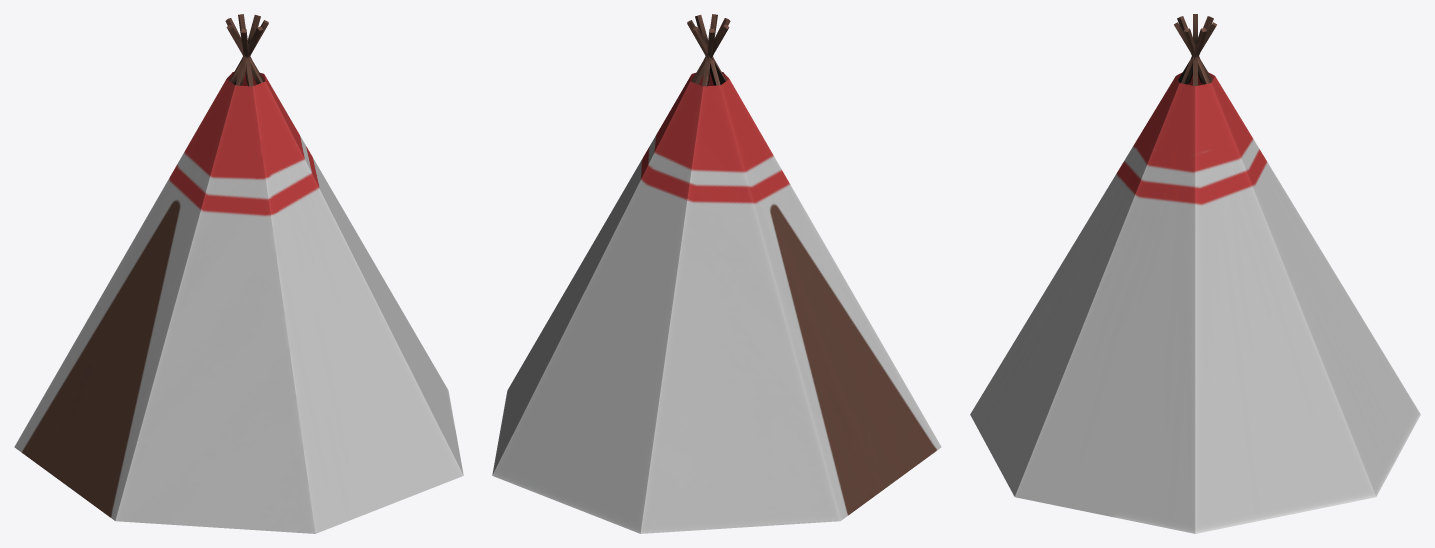
Rendered from Hovel.fbx.
3 views of the same model, side by side, from view 1: azimuth 30°, elevation 25°; view 2: azimuth 150°, elevation 25°; view 3: azimuth 270°, elevation 25° (orthographic).
Visible parts, largest first — view 1: Hovel; view 2: Hovel; view 3: Hovel.
Boxes of the visible parts, box(x1,y1,x2,y2) form: Hovel: box(14, 14, 463, 533); Hovel: box(492, 14, 941, 533); Hovel: box(970, 14, 1420, 533).
Bounding box in the file's own units: 130 × 136 × 134.
